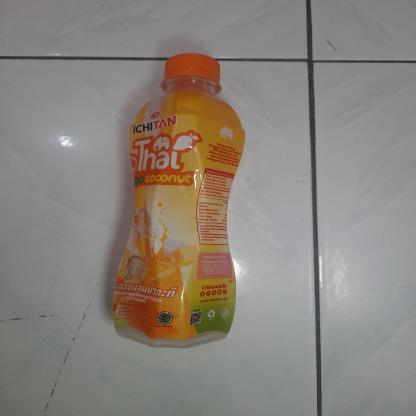bottle: (100, 49, 247, 350)
